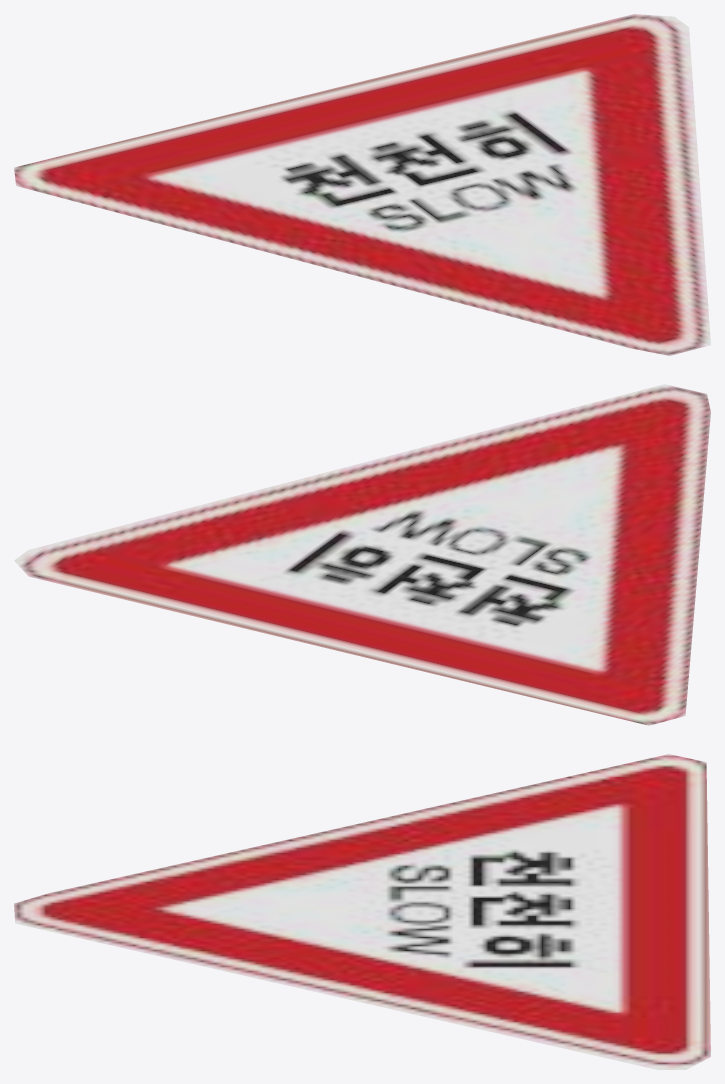
Rendered from SlowSign.fbx.
3 renders of one model, top to bottom at view 1: azimuth 30°, elevation 25°; view 2: azimuth 150°, elevation 25°; view 3: azimuth 270°, elevation 25°, orthographic. The views are drawn at different scales.
Parts seen in each view (by area): view 1: Plane001; view 2: Plane001; view 3: Plane001.
Boxes of the visible parts, x1,y1,x2,y2 form: Plane001: [14, 14, 710, 355]; Plane001: [14, 384, 710, 725]; Plane001: [14, 754, 710, 1069].
Bounding box in the file's own units: 47.38 × 2.7e-15 × 44.17.
1 material, 1 textured.
